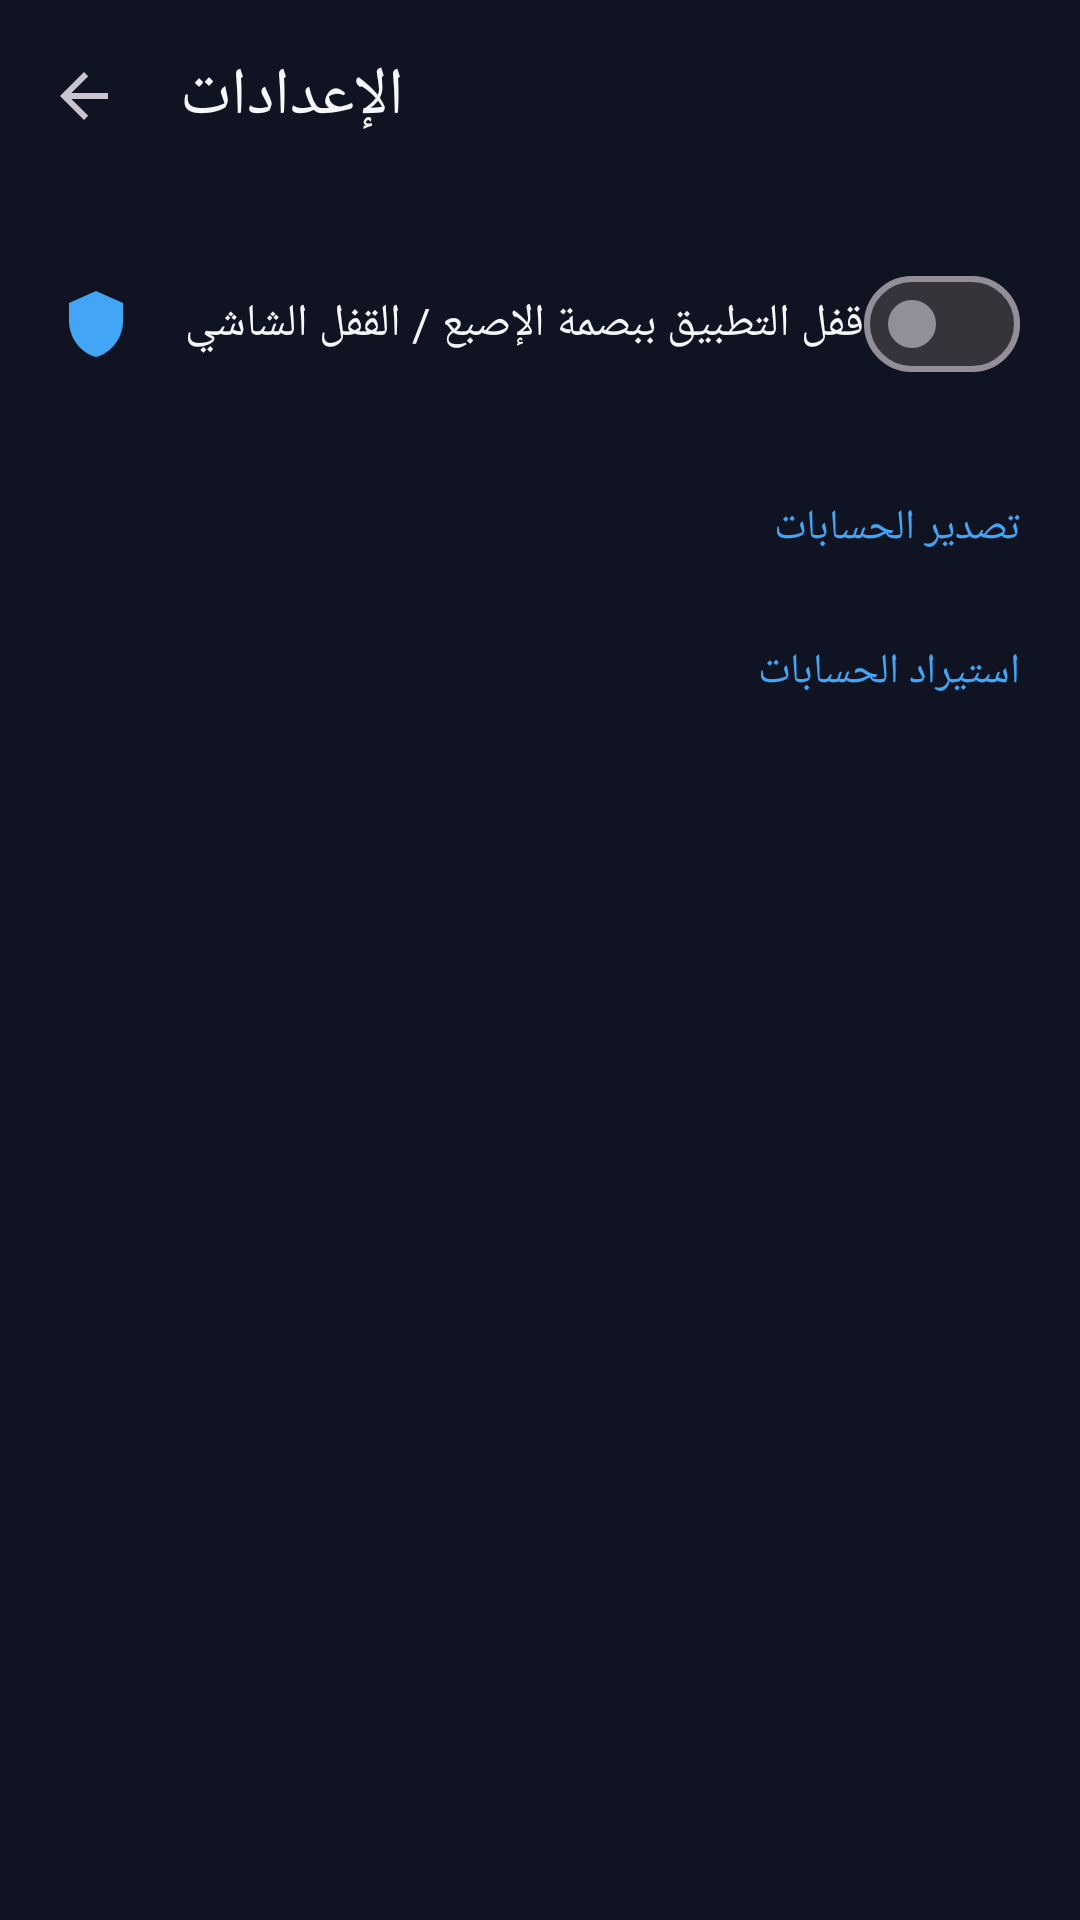

Icon click points for this 1080×1920 phone screenshot, format [x,y]:
lock shield: [96,324]
